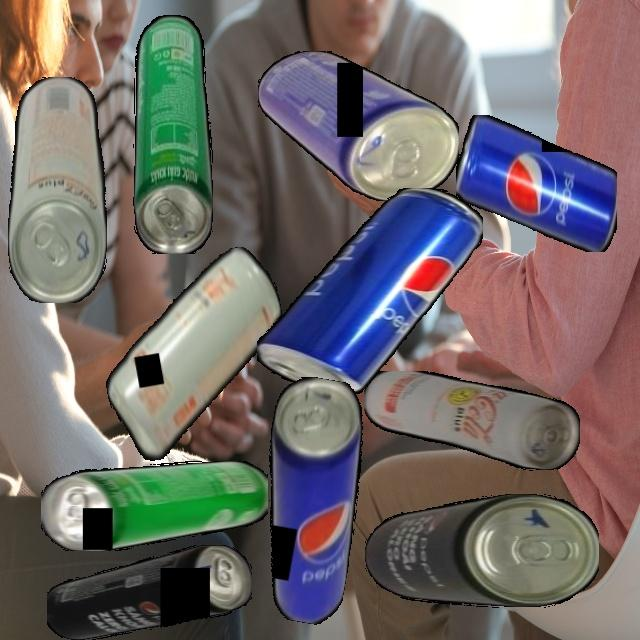debris: (87, 242, 303, 466), (256, 188, 483, 395), (240, 372, 379, 628), (257, 51, 459, 201), (364, 494, 599, 608), (7, 76, 107, 303), (455, 114, 617, 252), (363, 371, 580, 471), (41, 460, 268, 551), (46, 545, 252, 640), (132, 14, 213, 254)
